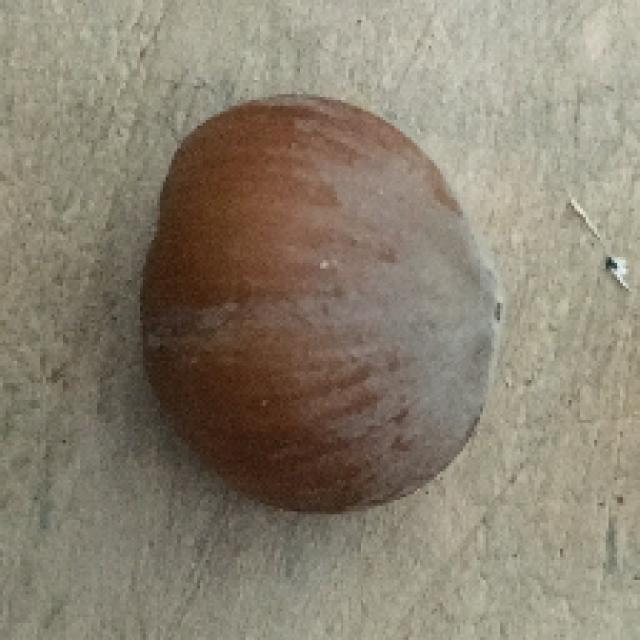qualityHazelnut: (125, 88, 498, 520)
